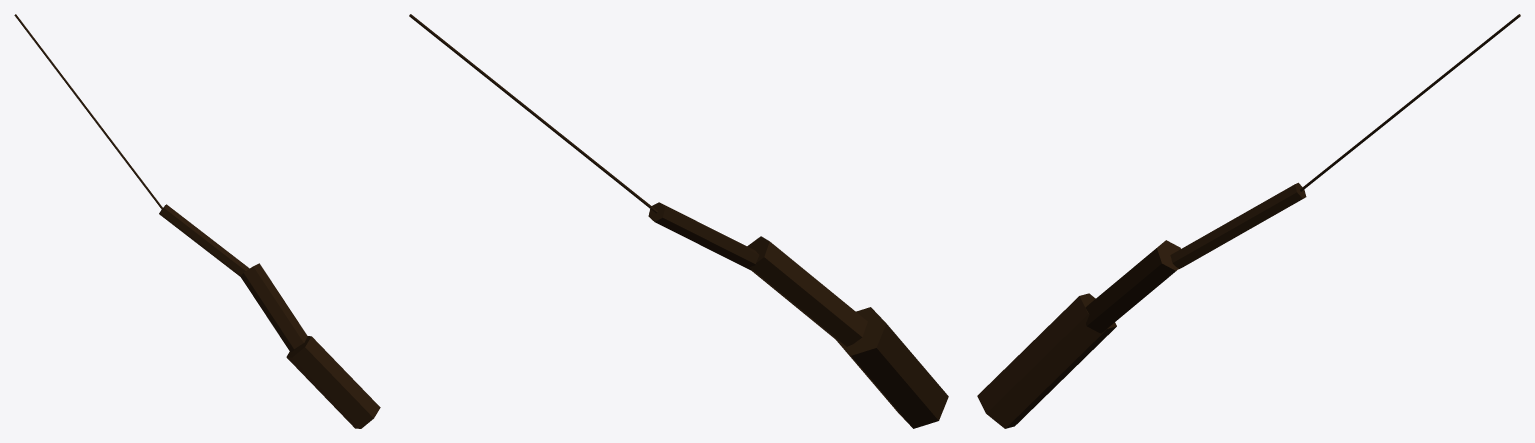
File: tree_549_no_leaf.obj
3 views of the same model, side by side, from view 1: azimuth 90°, elevation 25°; view 2: azimuth 150°, elevation 25°; view 3: azimuth 270°, elevation 25° (orthographic). The views are drawn at different scales.
Parts seen in each view (by area): view 1: TrunkAndBranches; view 2: TrunkAndBranches; view 3: TrunkAndBranches.
Part boxes in pixels (x1,y1,x2,y2): TrunkAndBranches: [14, 14, 380, 428]; TrunkAndBranches: [409, 14, 948, 428]; TrunkAndBranches: [977, 14, 1520, 428].
Size of the model in its own units: 0.4264 by 0.9156 by 0.8785.
